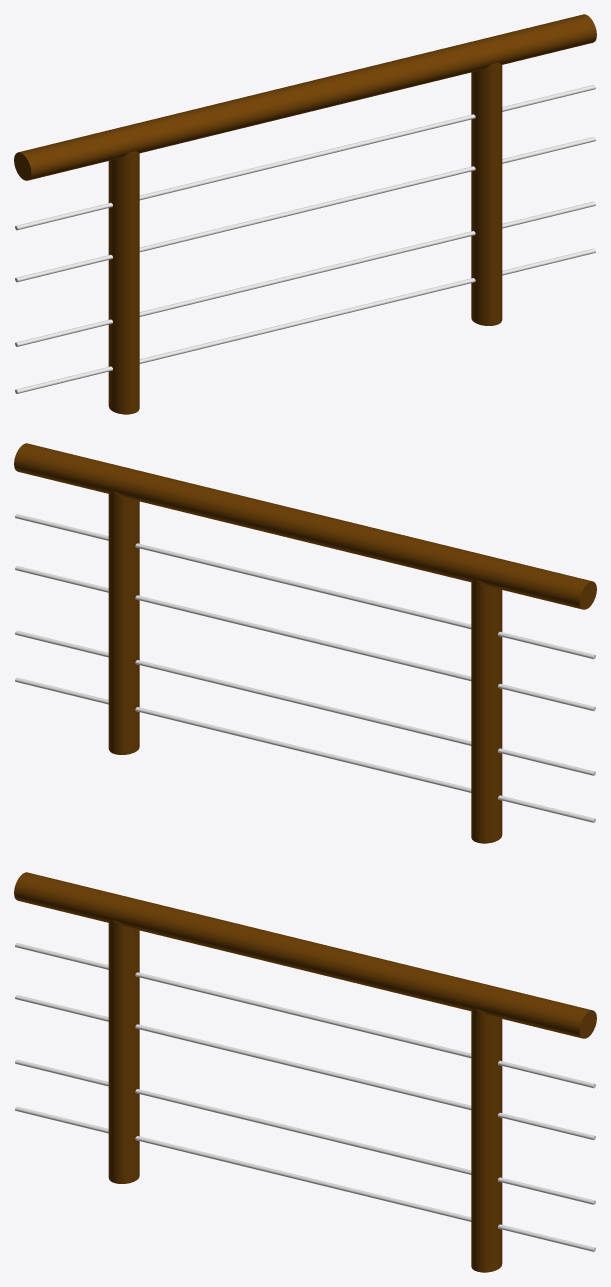
File: cow_pens.fbx
3 views of the same model, one above another, from view 1: azimuth 30°, elevation 25°; view 2: azimuth 150°, elevation 25°; view 3: azimuth 330°, elevation 25° (orthographic).
Visible parts, largest first — view 1: pCylinder3, pCylinder2, pCylinder1, pCylinder6, pCylinder7, pCylinder5, pCylinder4; view 2: pCylinder3, pCylinder2, pCylinder1, pCylinder6, pCylinder7, pCylinder5, pCylinder4; view 3: pCylinder3, pCylinder1, pCylinder2, pCylinder6, pCylinder7, pCylinder5, pCylinder4.
Part boxes in pixels (left/top/right/bottom): pCylinder3: left=14, top=14, right=596, bottom=180; pCylinder2: left=471, top=62, right=502, bottom=325; pCylinder1: left=108, top=151, right=139, bottom=414; pCylinder6: left=15, top=201, right=595, bottom=346; pCylinder7: left=15, top=248, right=595, bottom=393; pCylinder5: left=15, top=137, right=595, bottom=282; pCylinder4: left=15, top=85, right=595, bottom=230; pCylinder3: left=14, top=443, right=596, bottom=609; pCylinder2: left=108, top=491, right=139, bottom=754; pCylinder1: left=471, top=580, right=502, bottom=843; pCylinder6: left=15, top=630, right=595, bottom=775; pCylinder7: left=15, top=677, right=595, bottom=822; pCylinder5: left=15, top=566, right=595, bottom=711; pCylinder4: left=15, top=514, right=595, bottom=659; pCylinder3: left=14, top=872, right=596, bottom=1038; pCylinder1: left=108, top=920, right=139, bottom=1183; pCylinder2: left=471, top=1009, right=502, bottom=1272; pCylinder6: left=15, top=1059, right=595, bottom=1204; pCylinder7: left=15, top=1106, right=595, bottom=1251; pCylinder5: left=15, top=995, right=595, bottom=1140; pCylinder4: left=15, top=943, right=595, bottom=1088.
Size of the model in its own units: 6.81 by 3.14 by 0.3556.
